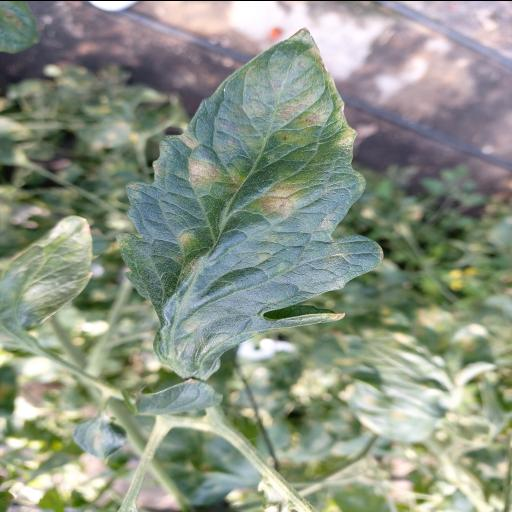Leaf Mold: (116, 28, 384, 380)
